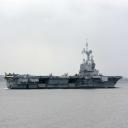Portanaves: (5, 39, 125, 91)
